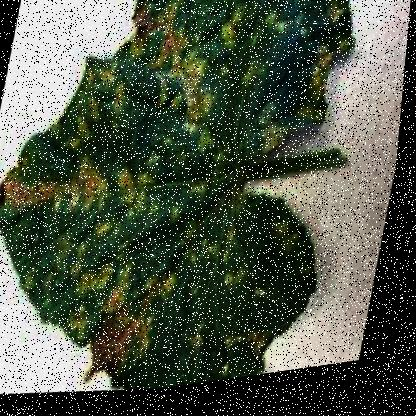DownyMildew: (0, 112, 206, 348), (87, 0, 289, 231), (90, 180, 286, 402)
